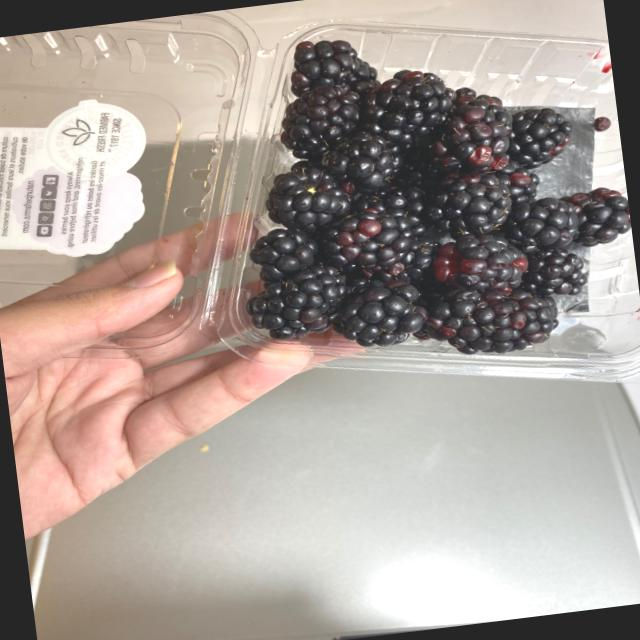blackberries: (249, 0, 602, 385)
